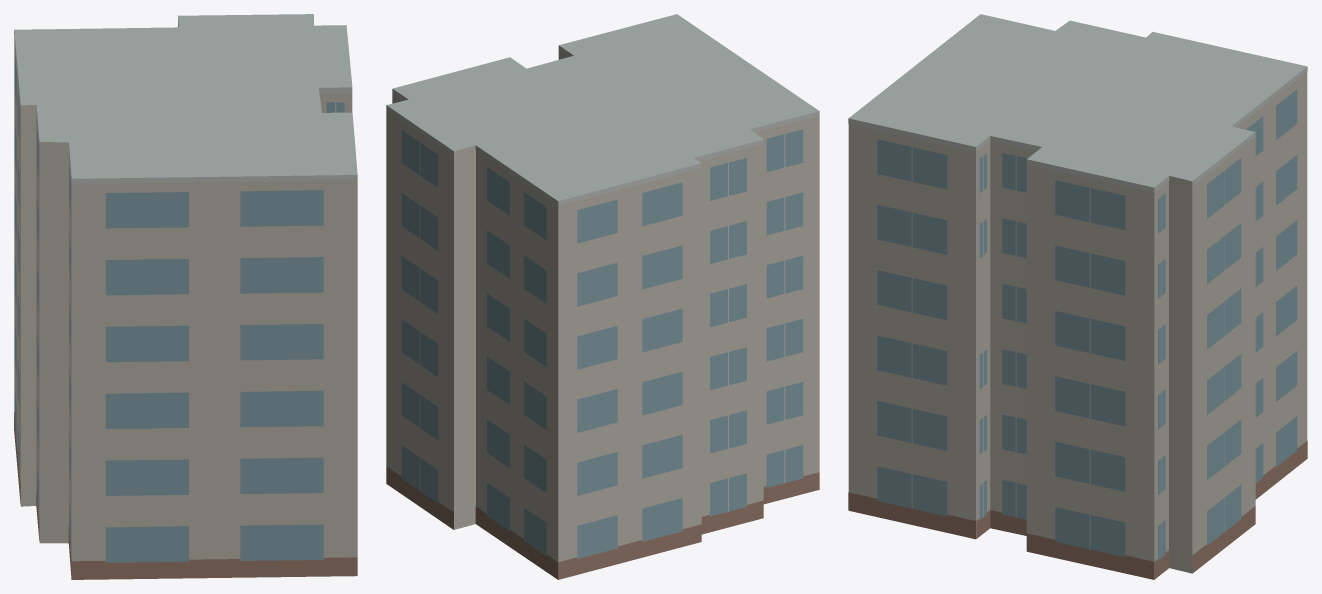
The model's file is survey-upis-32959876.glb.
3 renders of one model, left to right at view 1: azimuth 30°, elevation 25°; view 2: azimuth 150°, elevation 25°; view 3: azimuth 270°, elevation 25°, orthographic. The views are drawn at different scales.
Visible parts, largest first — view 1: survey-upis-32959876.tmp; view 2: survey-upis-32959876.tmp; view 3: survey-upis-32959876.tmp.
Part boxes in pixels (<box>): survey-upis-32959876.tmp: <box>14,14,357,579</box>; survey-upis-32959876.tmp: <box>386,14,819,579</box>; survey-upis-32959876.tmp: <box>848,14,1307,579</box>.
Size of the model in its own units: 17.28 by 18.2 by 19.31.
